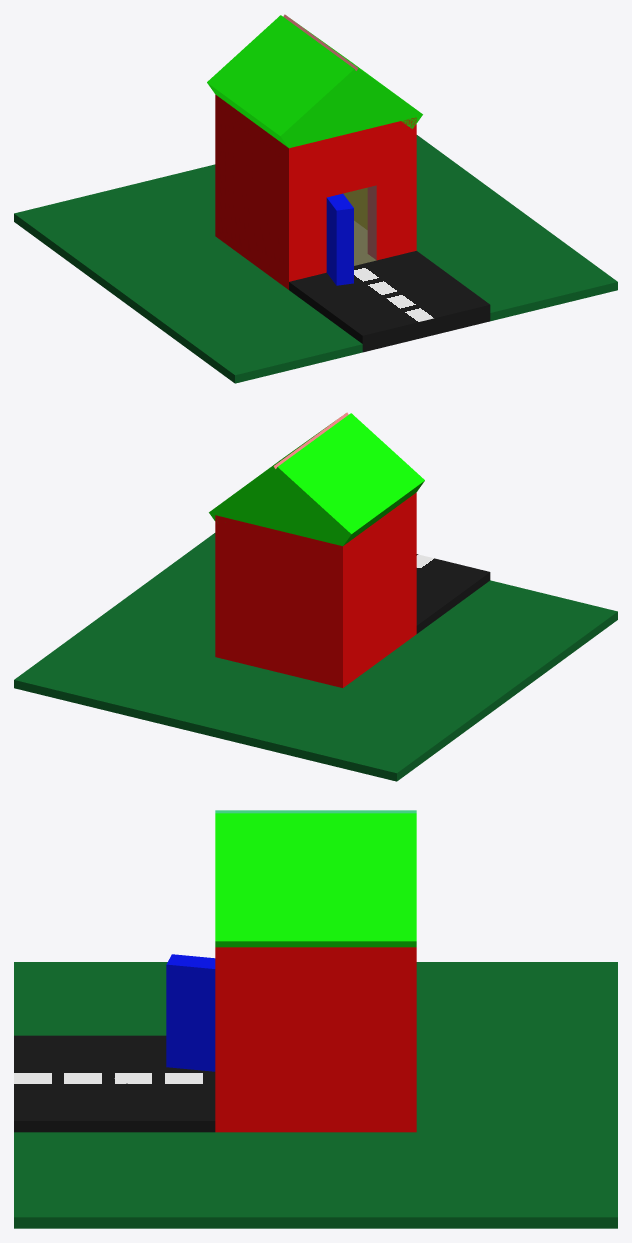
Rendered from house.gltf.
3 renders of one model, top to bottom at view 1: azimuth 30°, elevation 25°; view 2: azimuth 150°, elevation 25°; view 3: azimuth 270°, elevation 25°, orthographic. The views are drawn at different scales.
Parts seen in each view (by area): view 1: cube (×16); view 2: cube (×13); view 3: cube (×10).
Boxes of the visible parts, left/top/right/bottom form: cube (×16): left=14, top=14, right=617, bottom=383; cube (×13): left=14, top=412, right=617, bottom=781; cube (×10): left=14, top=810, right=617, bottom=1228.
Bounding box in the file's own units: 3 × 1.6 × 3.
Materials: 28 (28 with a texture image).
